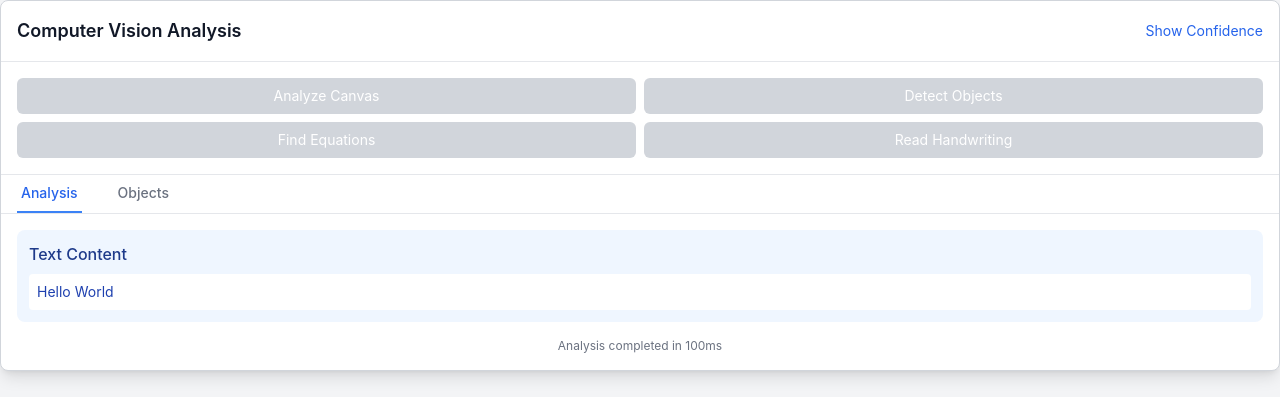
ComputerVisionPanel › should display confidence scores when enabled
Note: Enable confidence display
Step 1. Click the button "Show Confidence" → coordinates (1204, 31), box [1146, 21, 1263, 41]
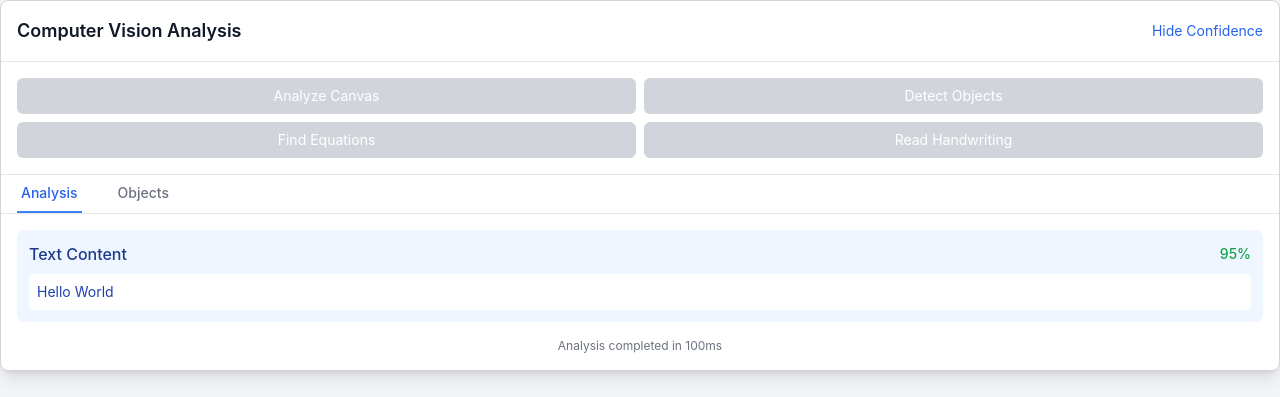
Expected: the text "95%" is shown, [1220, 244, 1251, 264]
Expected: the button "Hide Confidence" is shown, [1152, 21, 1263, 41]
